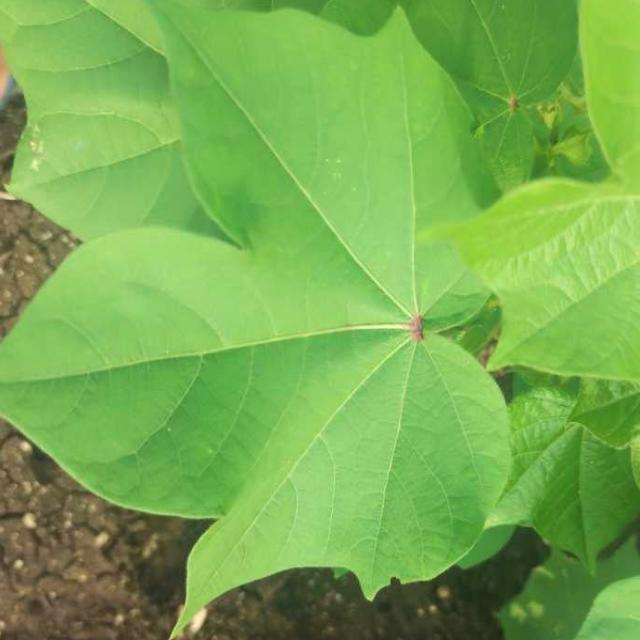Healthy Leaf: (26, 18, 592, 535)
